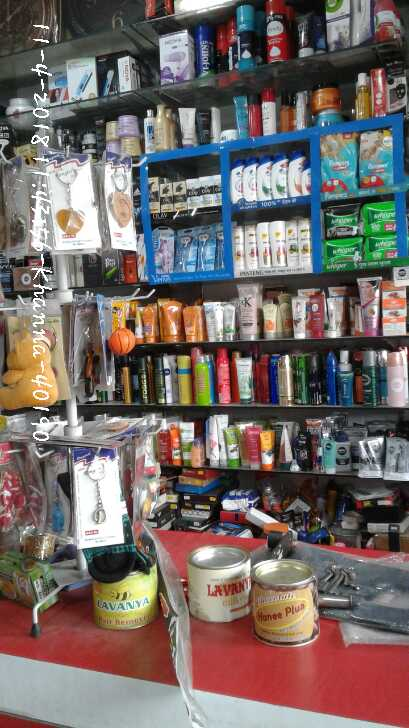venus: (175, 225, 197, 274), (153, 227, 173, 273), (198, 224, 213, 271), (216, 223, 223, 269)
